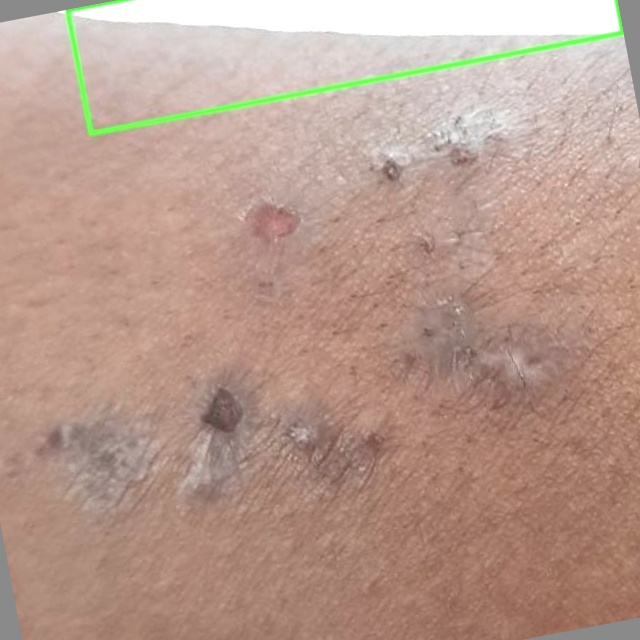Atopic Dermatitis: (67, 0, 622, 133)
